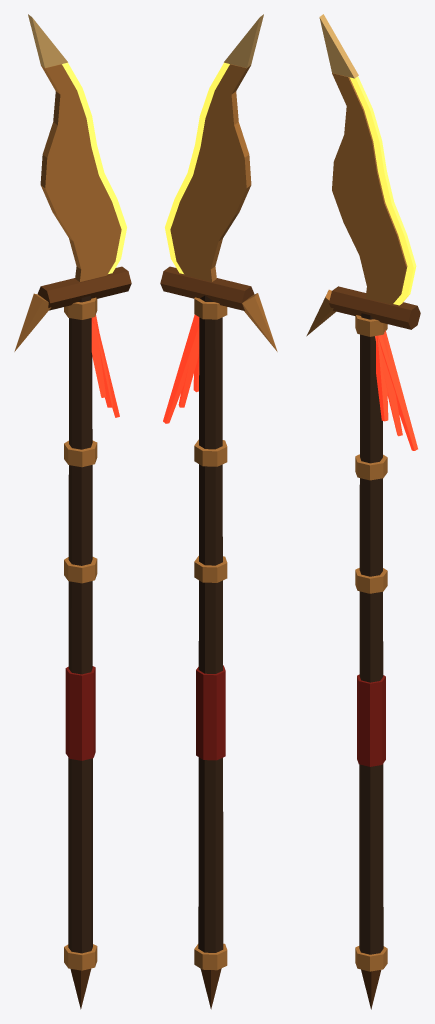
Rendered from salamander_glaive.glb.
The picture shows the model from 3 angles, left to right: view 1: azimuth 30°, elevation 25°; view 2: azimuth 150°, elevation 25°; view 3: azimuth 330°, elevation 25°; orthographic projection. The views are drawn at different scales.
Parts seen in each view (by area): view 1: salamander_glaive; view 2: salamander_glaive; view 3: salamander_glaive.
Boxes of the visible parts, x1,y1,x2,y2 form: salamander_glaive: [14, 14, 131, 1009]; salamander_glaive: [160, 14, 277, 1009]; salamander_glaive: [306, 14, 420, 1009].
Size of the model in its own units: 0.3017 by 2.6 by 0.076.
